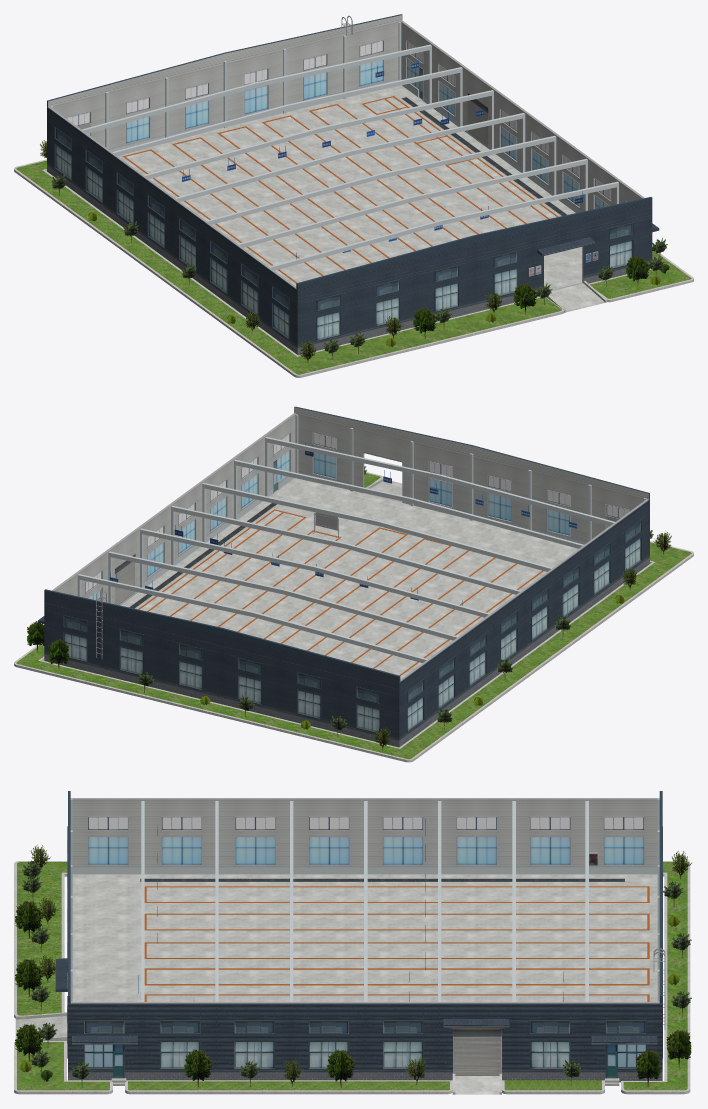
The model's file is room.FBX.
3 views of the same model, one above another, from view 1: azimuth 30°, elevation 25°; view 2: azimuth 150°, elevation 25°; view 3: azimuth 270°, elevation 25° (orthographic). The views are drawn at different scales.
Visible parts, largest first — view 1: 图形01, 对象06, Line03, 对象04, 对象07, Box3862, Box3860, Box3859, Box3863, Box3861, Box3864, Box3865 (+12 smaller); view 2: 图形01, 对象06, Line03, 对象07, 对象04, Box3862, Box3865, Box3864, Box3861, Box3863, Box3860, Box3859 (+8 smaller); view 3: 图形01, 对象06, Line03, Line01, 对象41, Line04, 图形147, 图形61, 对象40, 图形146, 图形02, Line02 (+22 smaller).
Boxes of the visible parts, x1,y1,x2,y2 form: 图形01: [47, 21, 659, 355]; 对象06: [118, 85, 582, 289]; Line03: [14, 159, 564, 377]; 对象04: [296, 197, 652, 289]; 对象07: [47, 14, 402, 106]; Box3862: [175, 113, 525, 201]; Box3860: [112, 67, 462, 155]; Box3859: [82, 44, 431, 133]; Box3863: [206, 135, 556, 224]; Box3861: [144, 90, 493, 178]; Box3864: [238, 158, 587, 247]; Box3865: [269, 181, 618, 270]; 图形01: [38, 413, 649, 747]; 对象06: [121, 478, 578, 678]; Line03: [14, 541, 693, 762]; 对象07: [44, 589, 400, 682]; 对象04: [294, 406, 649, 499]; Box3862: [171, 505, 520, 594]; Box3865: [265, 437, 614, 525]; Box3864: [234, 459, 583, 548]; Box3861: [140, 528, 489, 617]; Box3863: [202, 483, 551, 571]; Box3860: [108, 551, 458, 640]; Box3859: [77, 574, 427, 662]; 图形01: [55, 798, 662, 1080]; 对象06: [72, 874, 657, 1001]; Line03: [14, 861, 690, 1094]; Line01: [125, 1080, 452, 1094]; 对象41: [588, 1002, 662, 1082]; Line04: [14, 1041, 112, 1094]; 图形147: [144, 968, 649, 985]; 图形61: [144, 913, 649, 930]; 对象40: [140, 878, 624, 881]; 图形146: [144, 942, 649, 958]; 图形02: [144, 886, 649, 902]; Line02: [502, 1080, 604, 1094].
Size of the model in its own units: 38.01 by 46.84 by 7.62.
